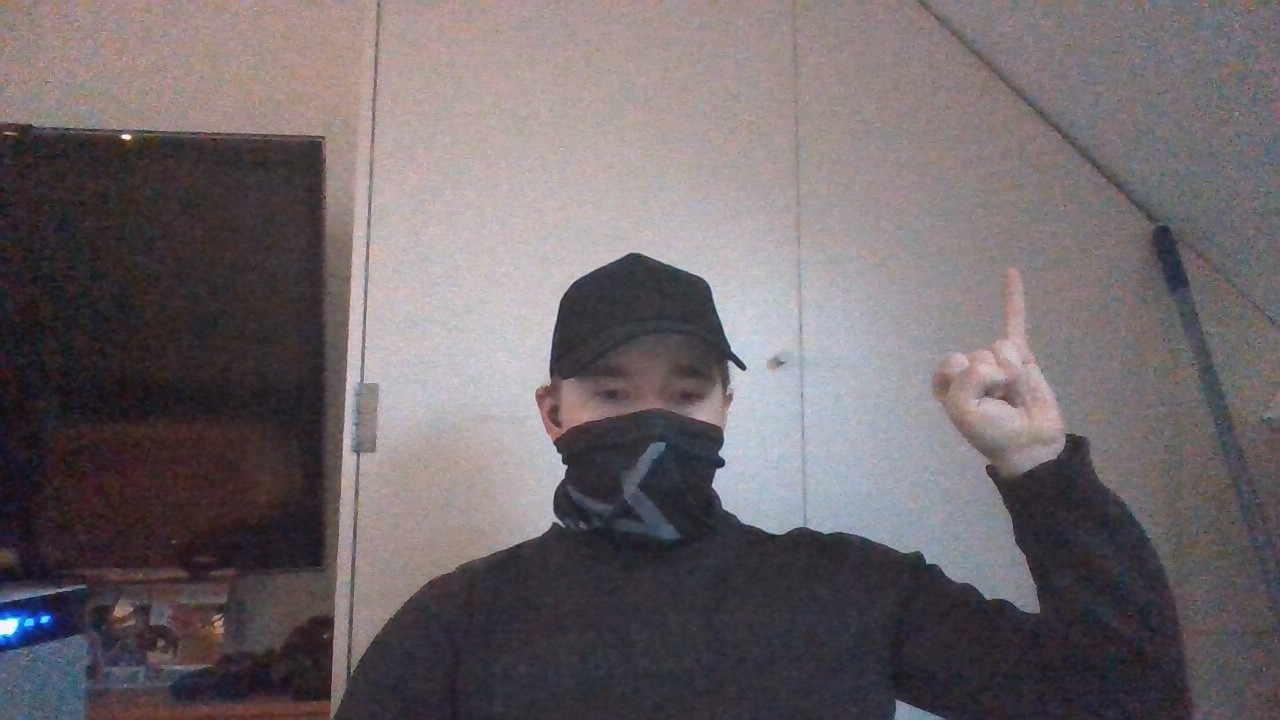I" Sign language: (922, 261, 1080, 457)
